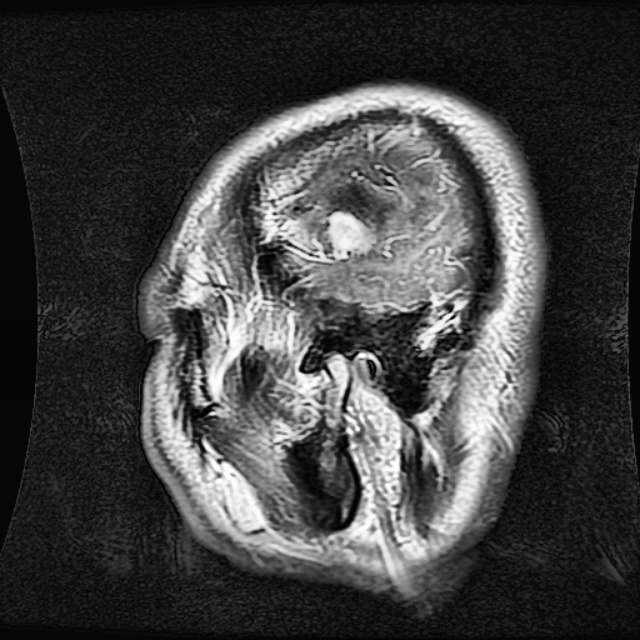Meningioma: (332, 212, 368, 249)
